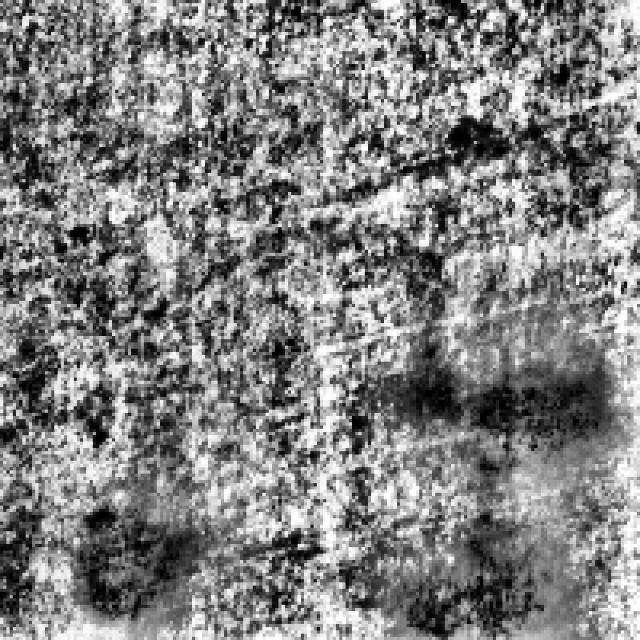Scratches: (403, 336, 614, 496), (384, 518, 560, 637), (58, 477, 196, 627)
